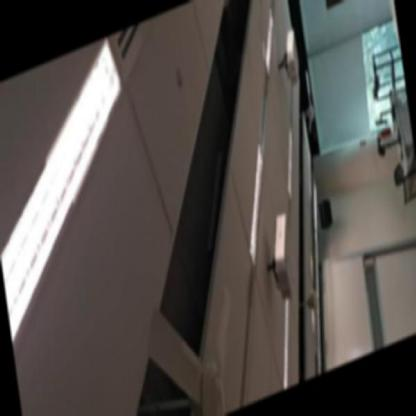light_on: (0, 27, 167, 361), (232, 134, 281, 268), (268, 291, 308, 391), (253, 2, 284, 76), (278, 127, 303, 204)
